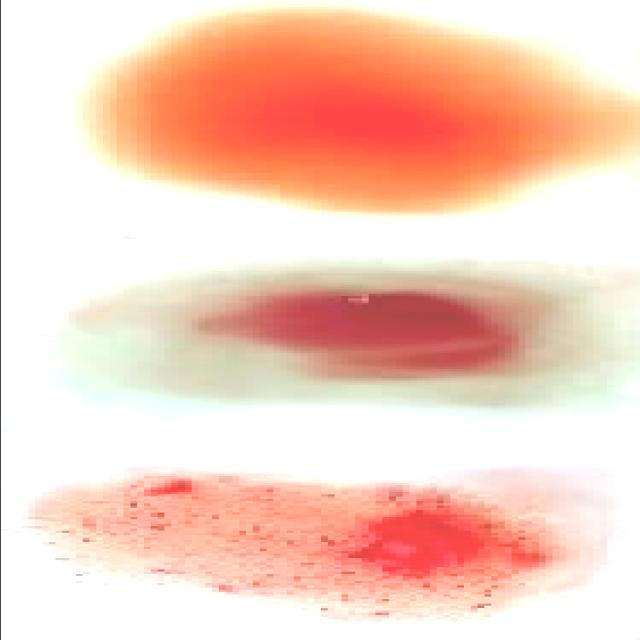D: (31, 474, 584, 619)
